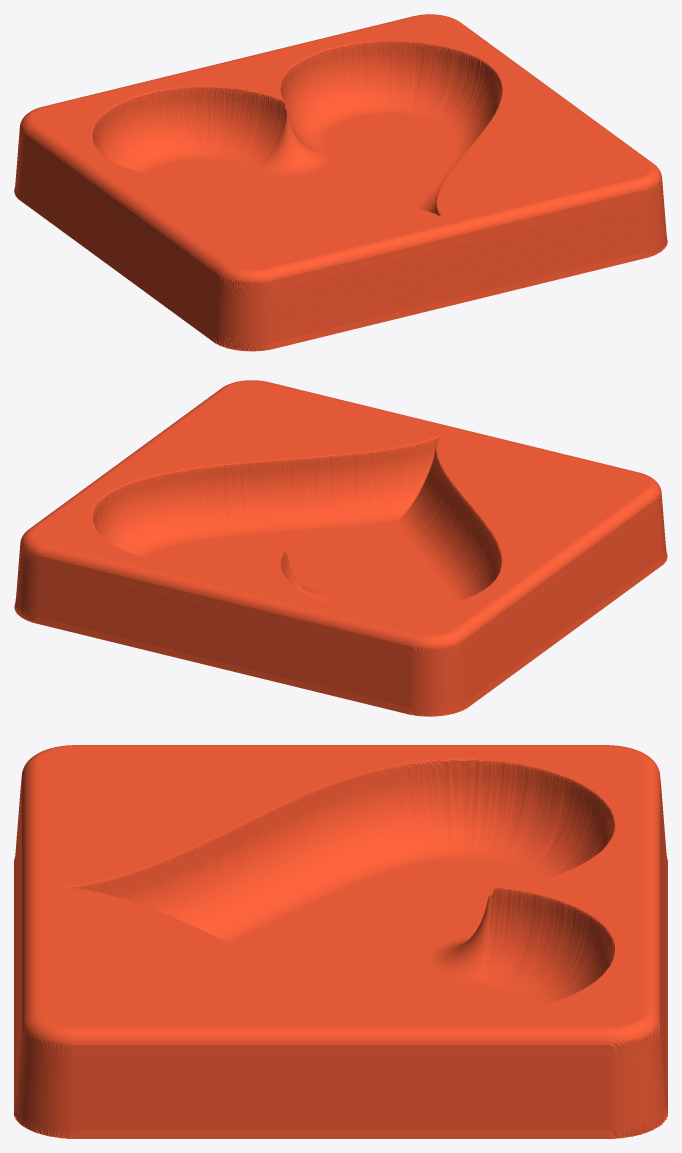
Rendered from mold.glb.
The picture shows the model from 3 angles, top to bottom: view 1: azimuth 30°, elevation 25°; view 2: azimuth 150°, elevation 25°; view 3: azimuth 270°, elevation 25°; orthographic projection. The views are drawn at different scales.
Parts seen in each view (by area): view 1: geometry_0; view 2: geometry_0; view 3: geometry_0.
Part boxes in pixels (x1,y1,x2,y2): geometry_0: (14, 14, 667, 351); geometry_0: (14, 380, 667, 716); geometry_0: (14, 745, 667, 1138).
Bounding box in the file's own units: 0.105 × 0.0165 × 0.0964.
